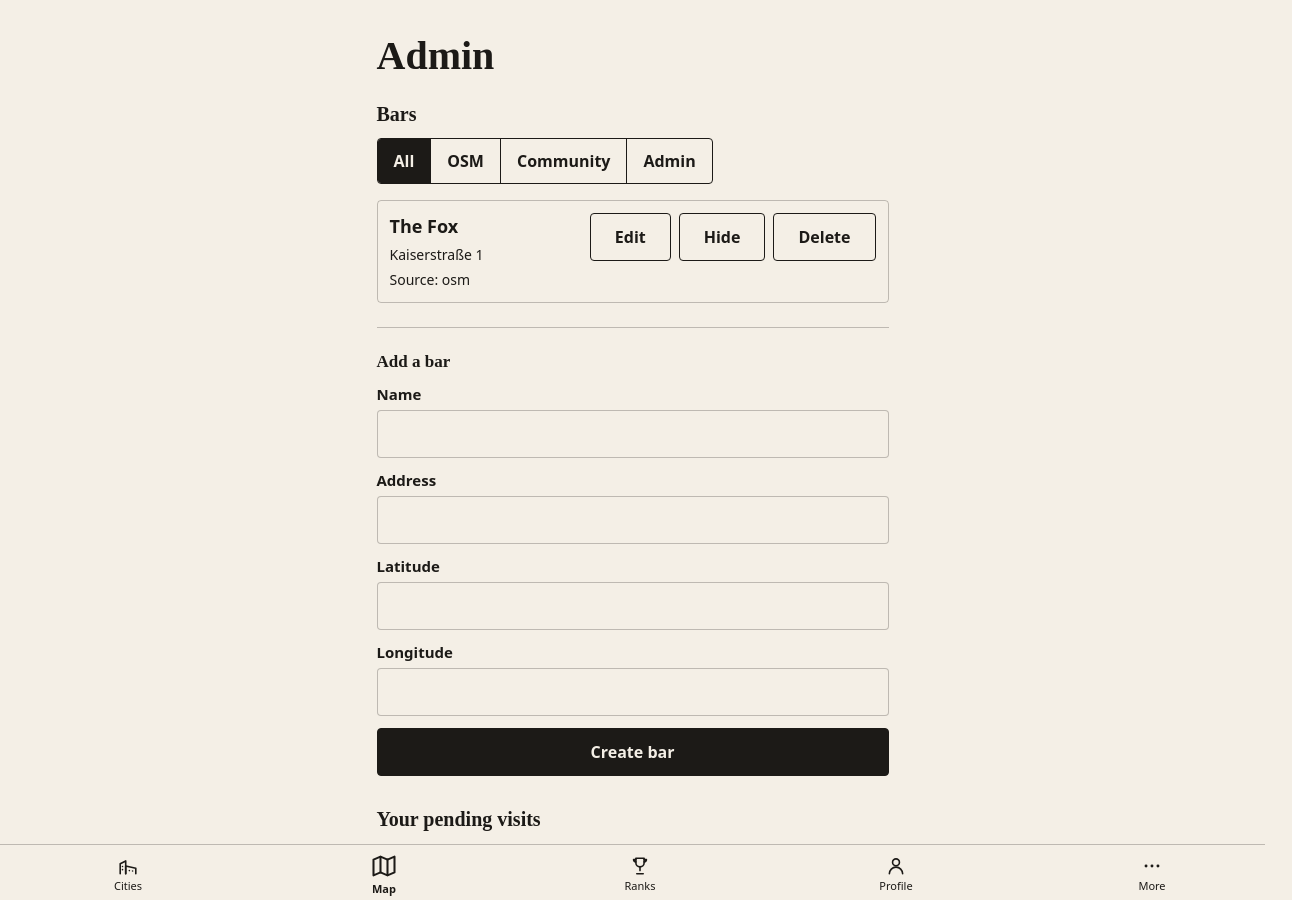
Test: admin bar management › hides a bar and reflects it in the list
Click the button "Hide": (722, 237) [679,213,765,261]
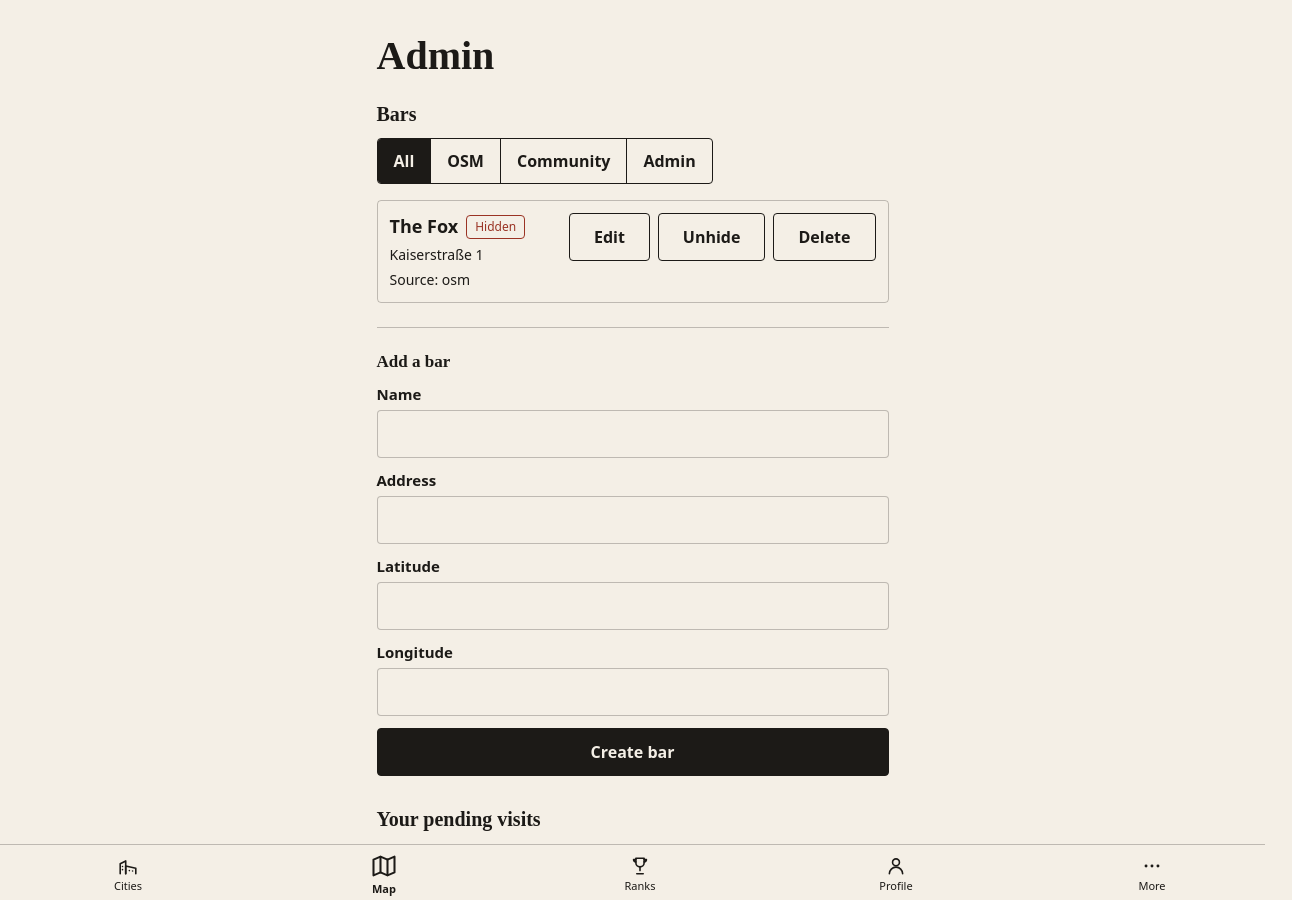
Expected: the text with class "admin-bar-row__tag--hidden" reads "Hidden", [475,218,516,234]
